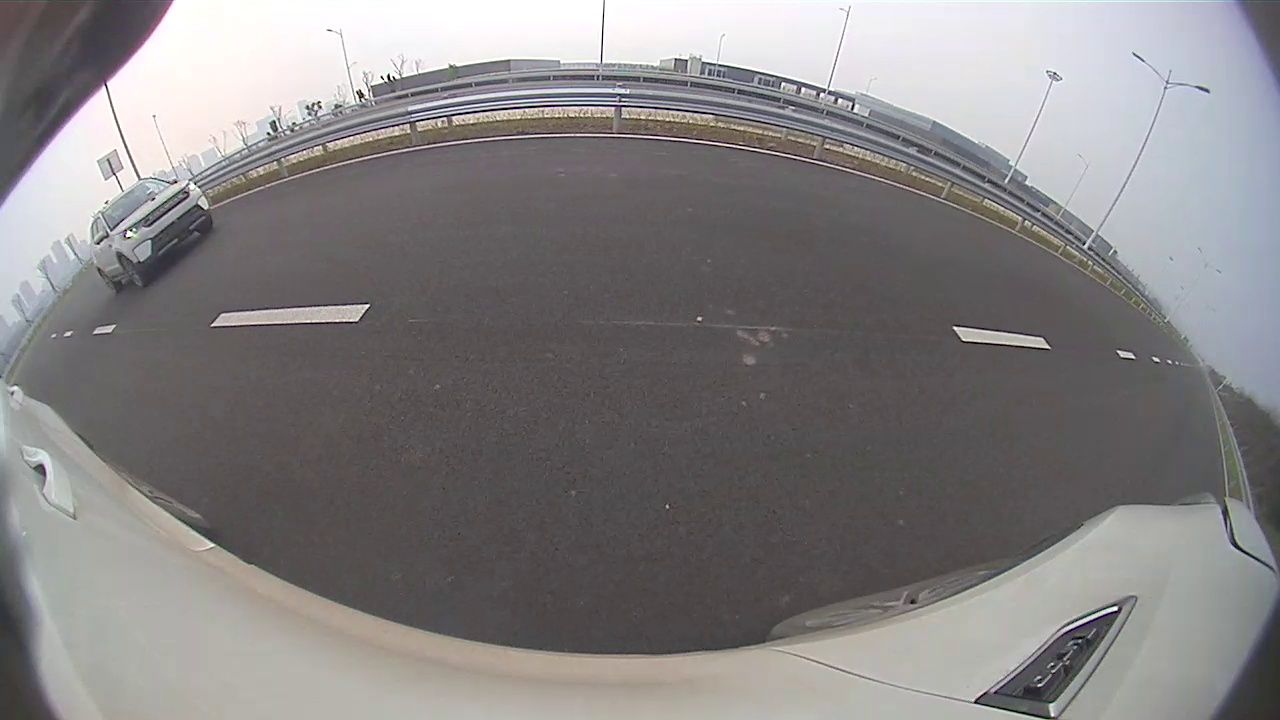car: (90, 177, 213, 295)
front: (117, 253, 147, 293)
